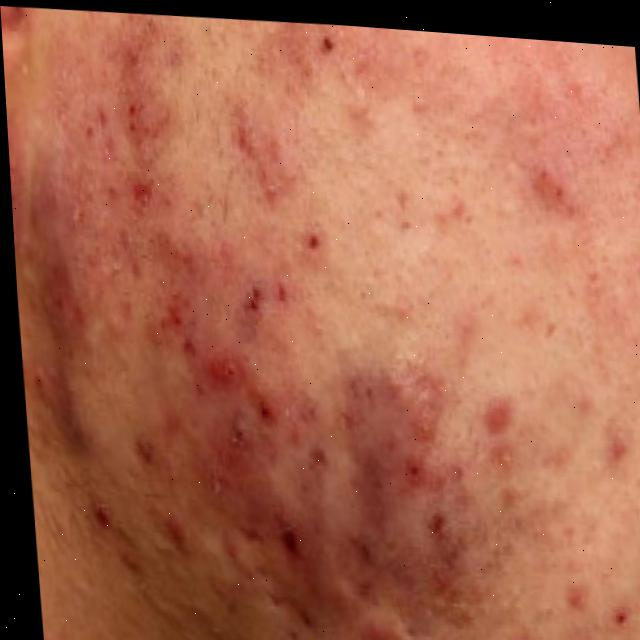Acne: (28, 2, 640, 640)
